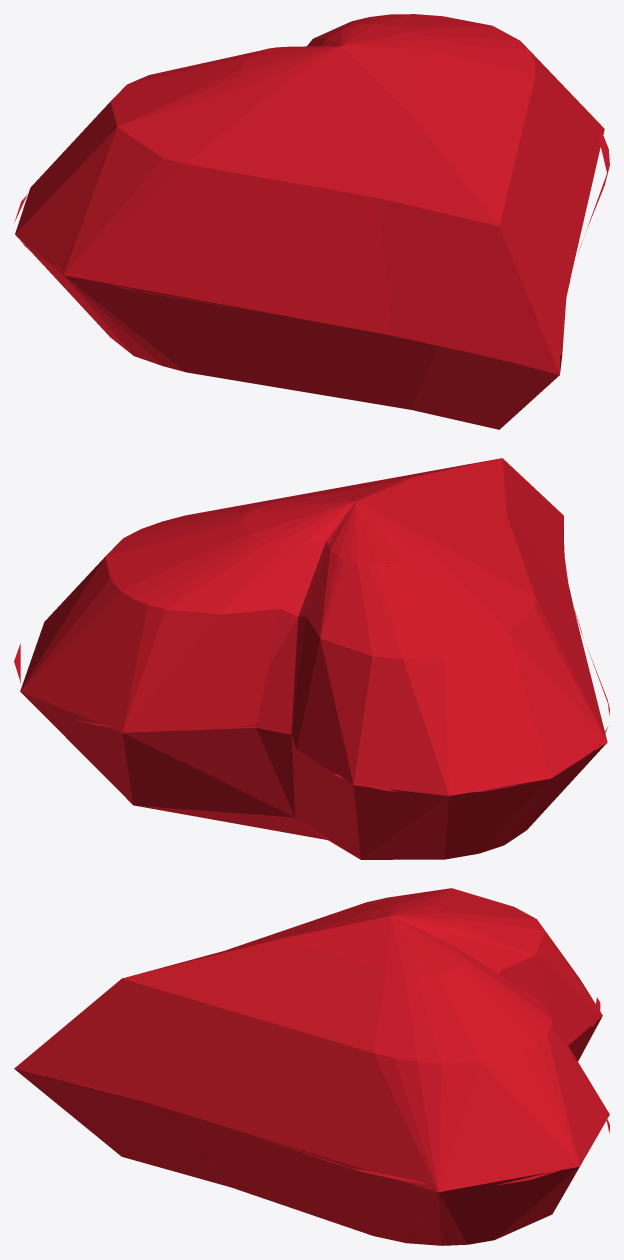
Rendered from heart.fbx.
3 renders of one model, top to bottom at view 1: azimuth 30°, elevation 25°; view 2: azimuth 150°, elevation 25°; view 3: azimuth 270°, elevation 25°, orthographic. The views are drawn at different scales.
Parts seen in each view (by area): view 1: BezierCurve; view 2: BezierCurve; view 3: BezierCurve.
Part boxes in pixels (x1=…): BezierCurve: x1=14, y1=14, x2=609, y2=429; BezierCurve: x1=14, y1=458, x2=609, y2=859; BezierCurve: x1=14, y1=888, x2=609, y2=1245.
Size of the model in its own units: 1198 by 704 by 1259.
